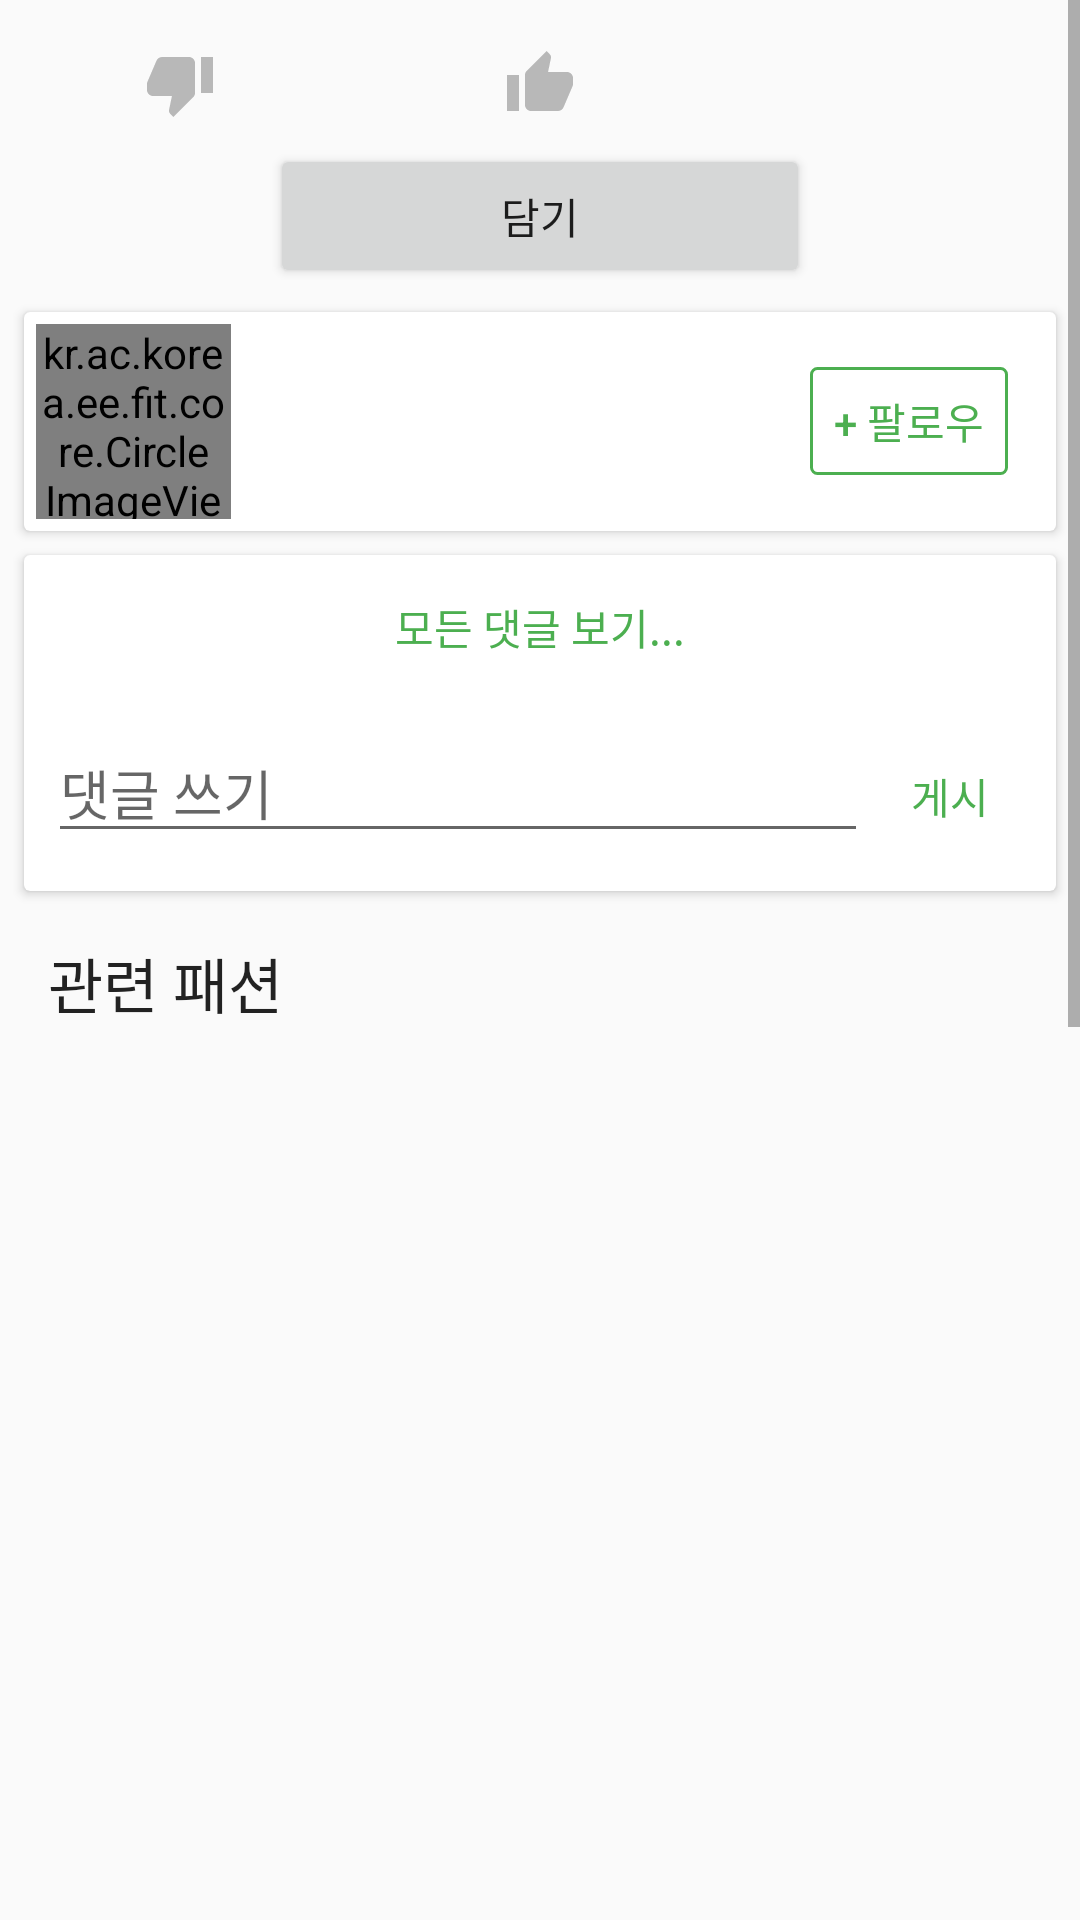

Where icons sit on this 1080px x 1920px app screen, as (x1,y1,x2,y2):
bad: (147,57,213,117)
good: (507,51,573,111)
